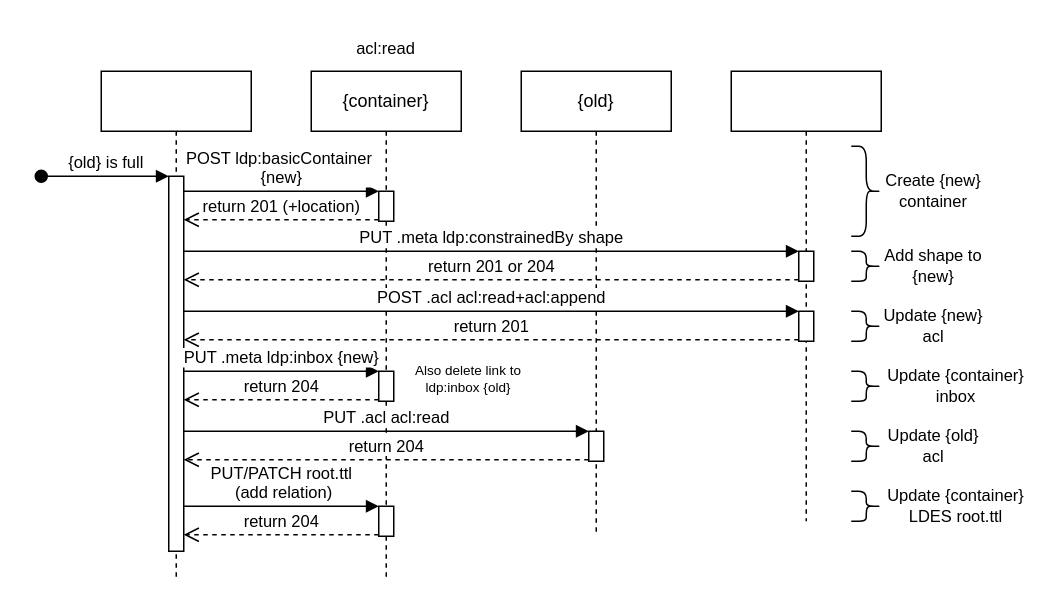
This 1058x608 diagram has some shape labels left out. The box of each missing label's shape, as (x1, y1, x2, y2) in pixels:
Basic LDES-Orchestrator: (100, 70, 251, 581)
{new}: (730, 70, 881, 521)
